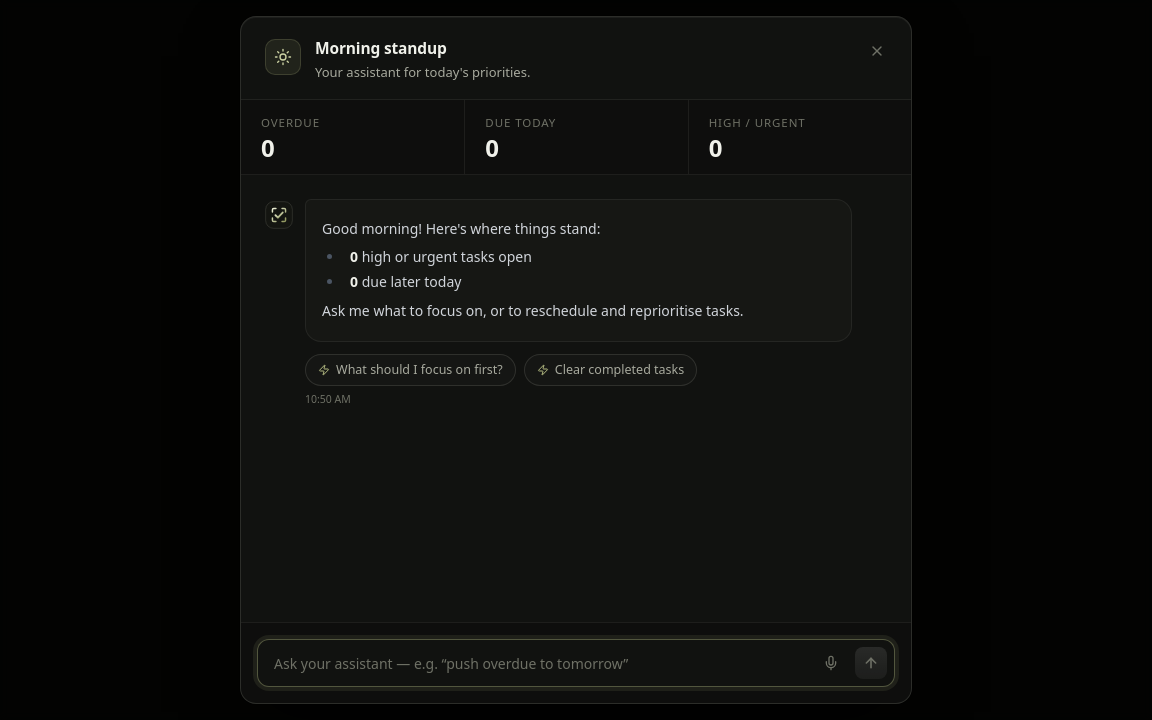
Test: MorningStandupModal › shows a helpful message when no API key is configured
Step 1. Type "hello" into the field with placeholder "Ask your assistant — e.g. “push overdue to tomorrow”" → (576, 663), box top-left (257, 639), bottom-right (895, 687)
Then press Enter
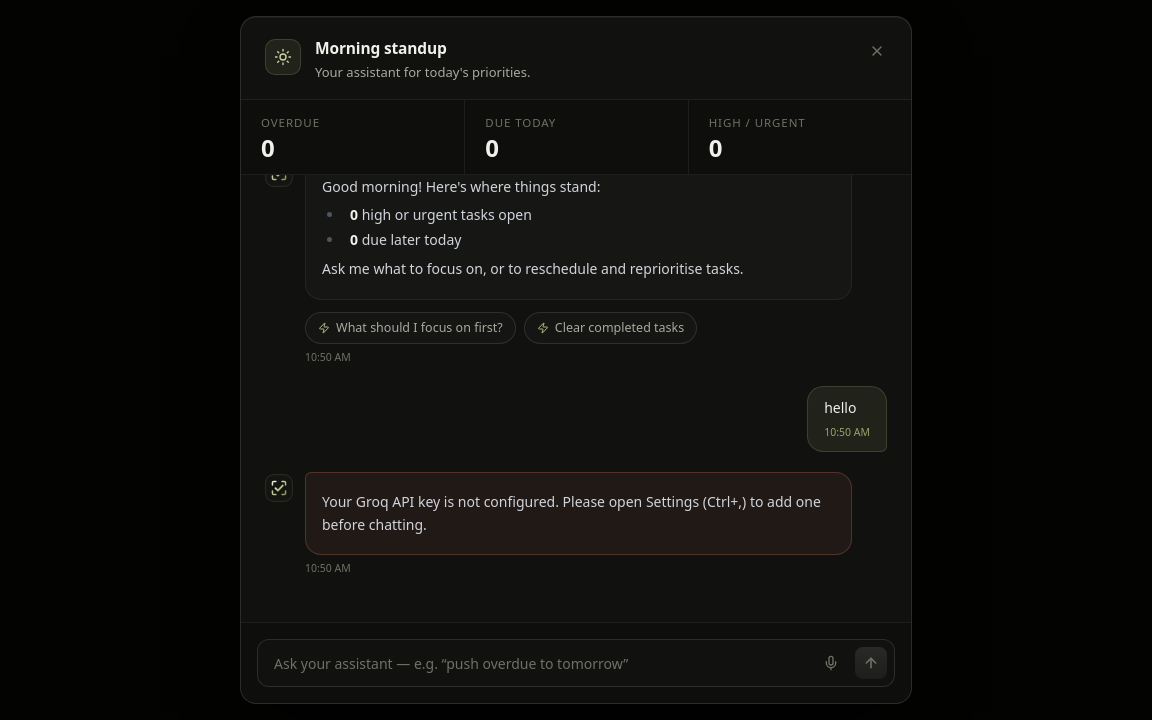
Now the text "open Settings" is shown, box top-left (322, 492), bottom-right (821, 534)
